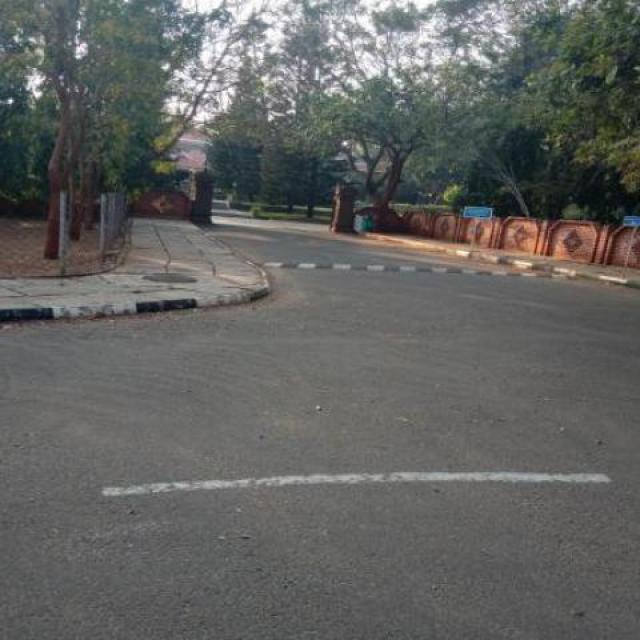Speed Bump: (258, 258, 580, 280)
